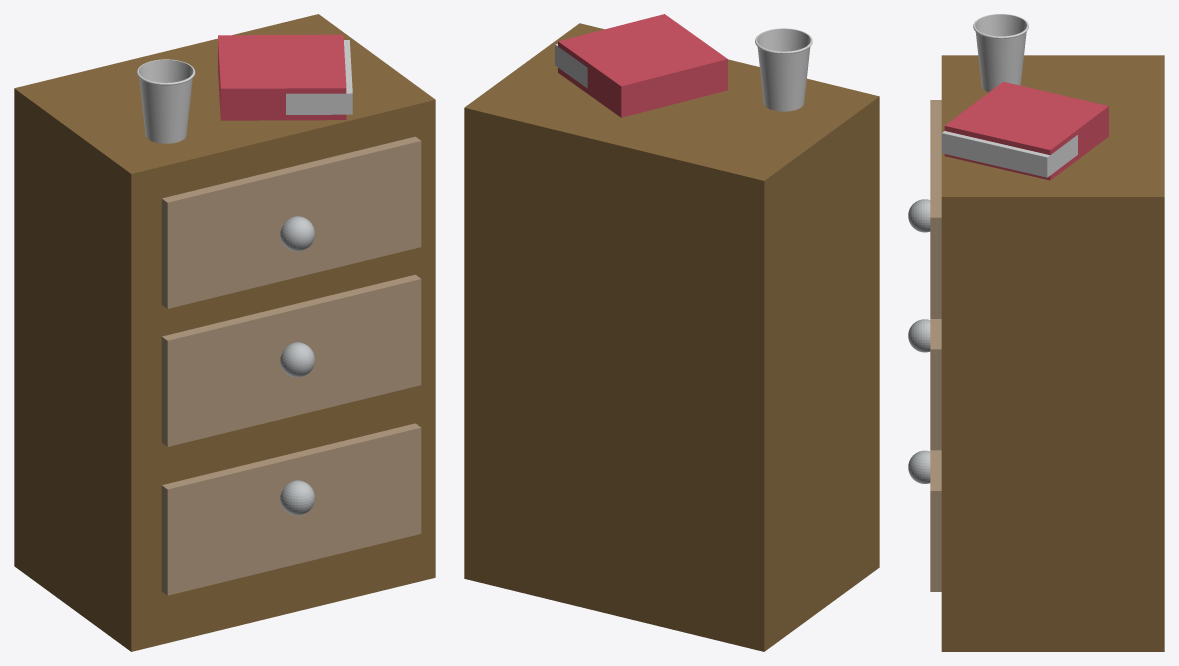
Rendered from Side Table design.glb.
3 views of the same model, side by side, from view 1: azimuth 30°, elevation 25°; view 2: azimuth 150°, elevation 25°; view 3: azimuth 270°, elevation 25° (orthographic). The views are drawn at different scales.
Visible parts, largest first — view 1: Mesh_Mesh_head_geo.001_lambert2SG.001; view 2: Mesh_Mesh_head_geo.001_lambert2SG.001; view 3: Mesh_Mesh_head_geo.001_lambert2SG.001.
Part boxes in pixels (x1,y1,x2,y2): Mesh_Mesh_head_geo.001_lambert2SG.001: (14,14,435,651); Mesh_Mesh_head_geo.001_lambert2SG.001: (464,14,879,651); Mesh_Mesh_head_geo.001_lambert2SG.001: (908,14,1164,651).
Bounding box in the file's own units: 30 × 51 × 23.
